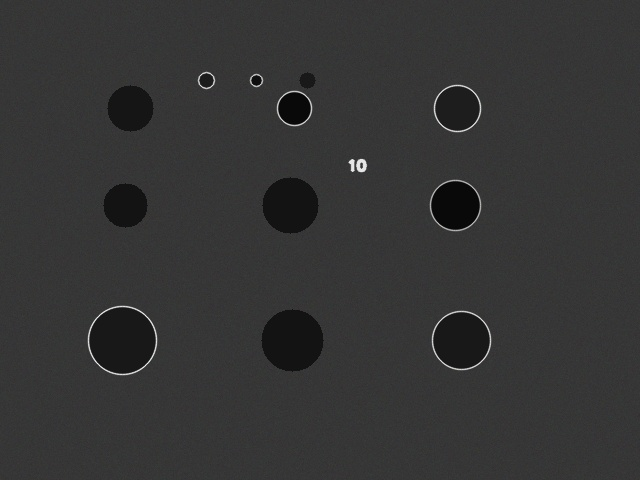hole: (88, 306, 156, 374), (261, 309, 323, 371), (432, 311, 490, 369), (262, 177, 318, 233), (430, 180, 480, 230), (107, 85, 153, 131), (434, 85, 480, 131), (103, 183, 147, 227), (277, 91, 311, 125), (198, 72, 214, 88), (299, 72, 315, 88), (250, 74, 262, 86)
